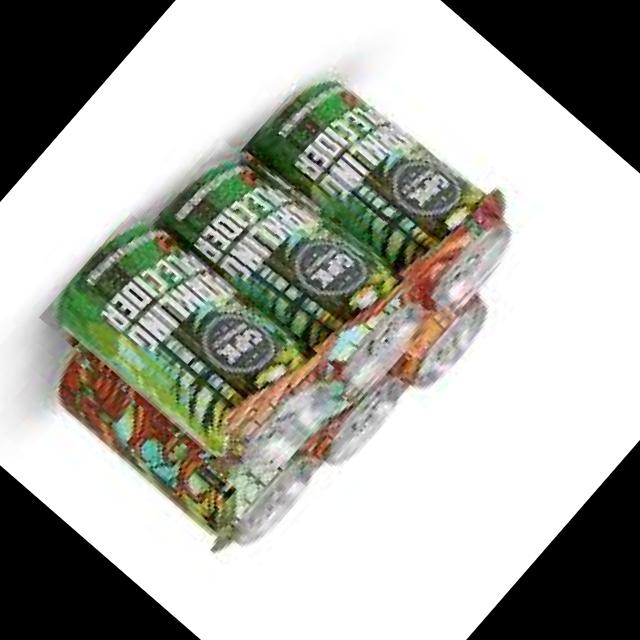Cans: (38, 199, 353, 502), (238, 46, 537, 332), (146, 126, 442, 408)
